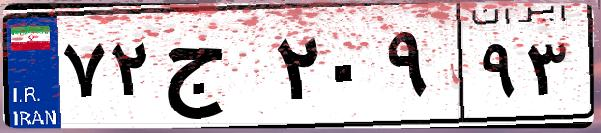0: (330, 28, 385, 110)
2: (270, 28, 330, 110), (110, 28, 158, 98)
3: (525, 38, 570, 115)
7: (57, 26, 110, 100)
9: (385, 28, 445, 110), (475, 38, 525, 113)
ج: (158, 20, 270, 120)
